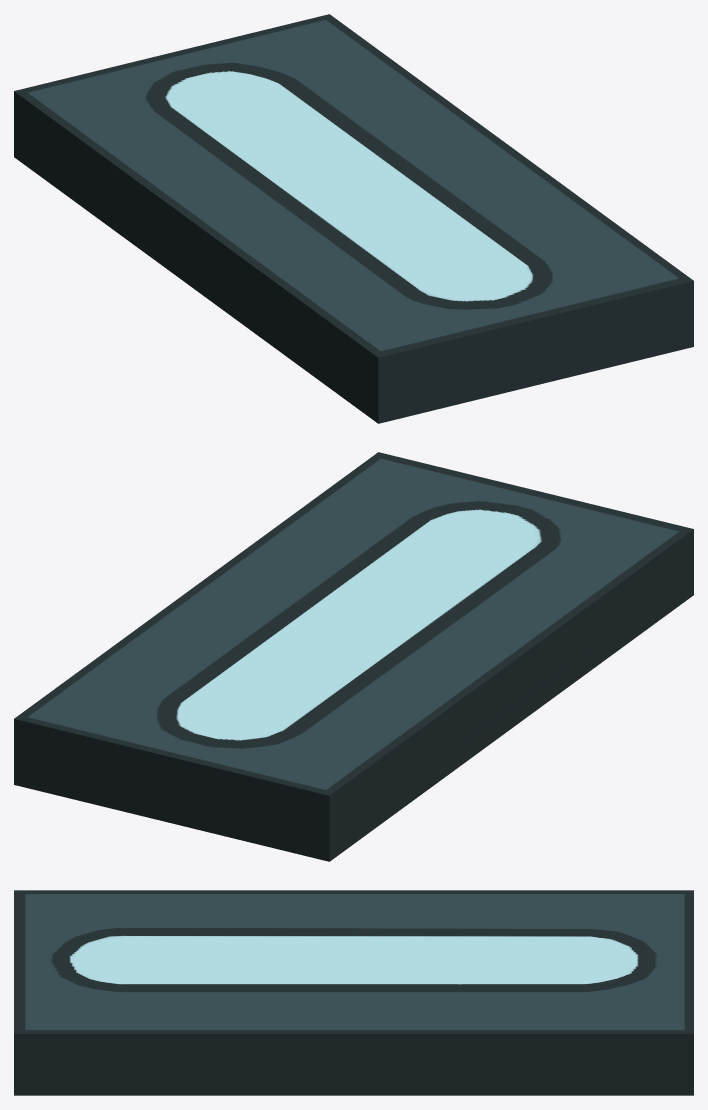
The model's file is Corridor-floor2.glb.
3 renders of one model, top to bottom at view 1: azimuth 30°, elevation 25°; view 2: azimuth 150°, elevation 25°; view 3: azimuth 270°, elevation 25°, orthographic. The views are drawn at different scales.
Visible parts, largest first — view 1: Cube; view 2: Cube; view 3: Cube.
Boxes of the visible parts, x1,y1,x2,y2 form: Cube: (14,14,693,423); Cube: (14,452,693,861); Cube: (14,890,693,1095).
Bounding box in the file's own units: 1 × 0.2 × 2.
1 material, 1 textured.
